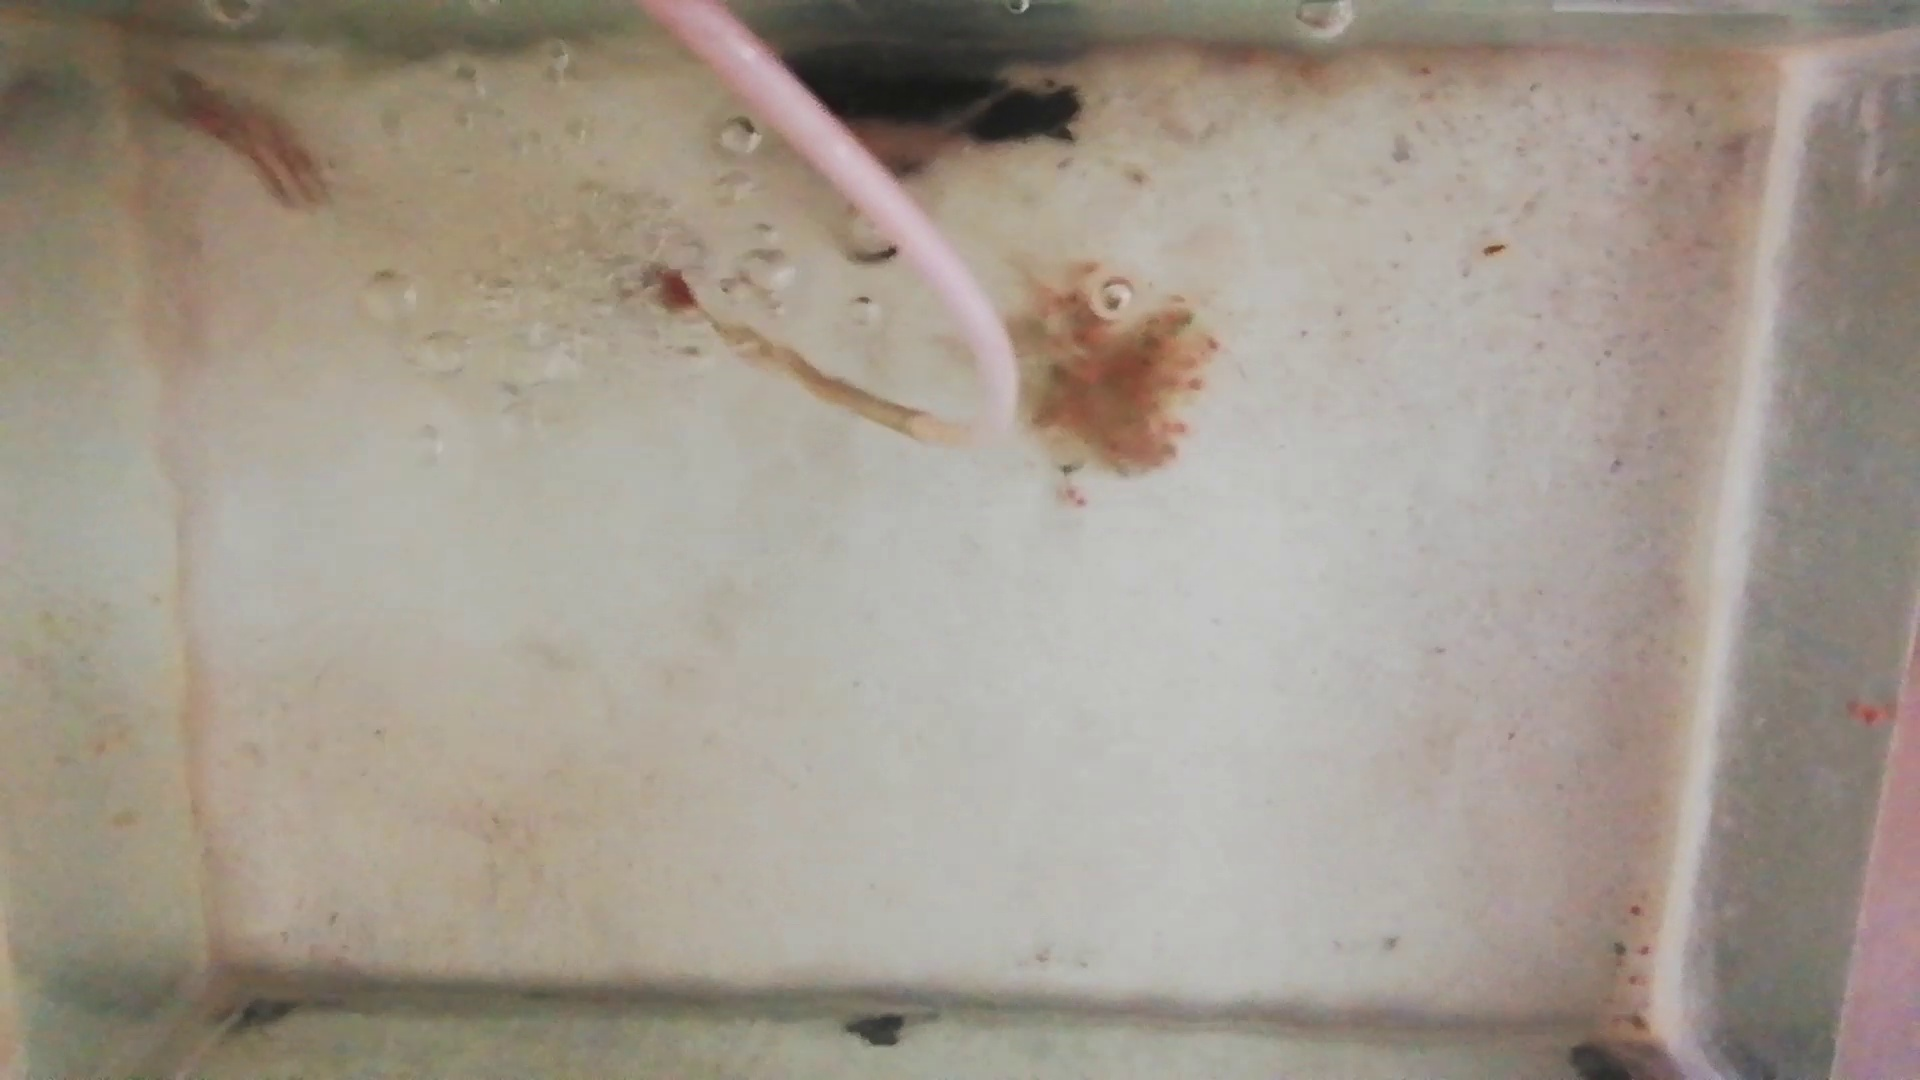fish: (160, 75, 324, 204), (851, 127, 978, 165)
